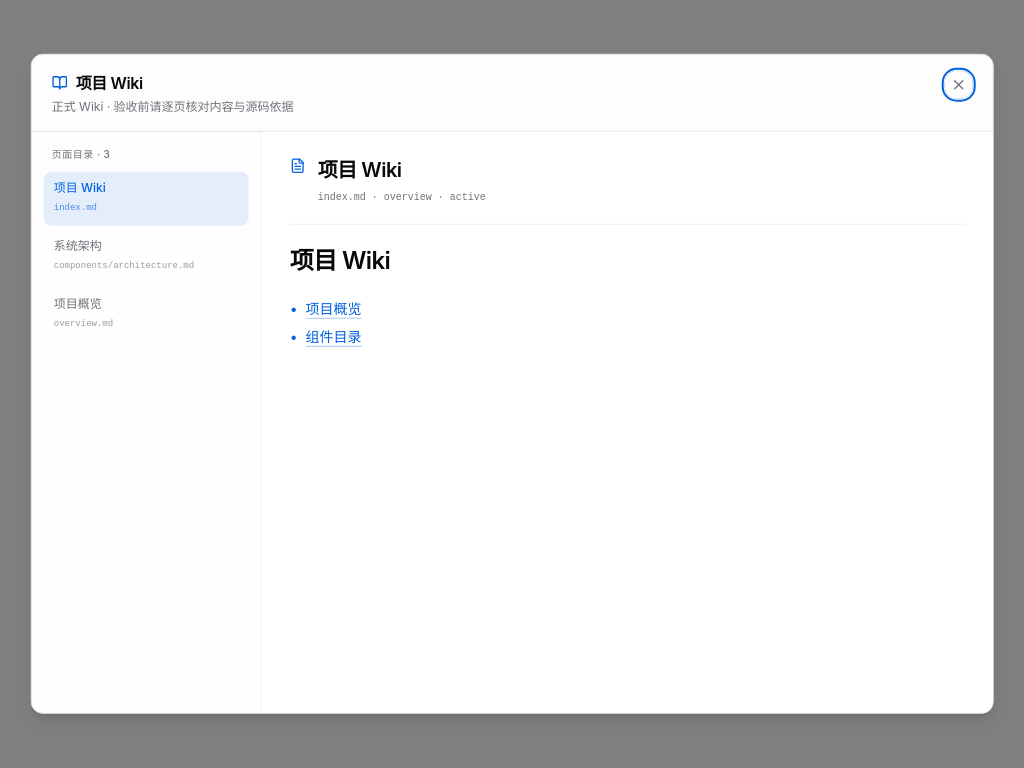
Test: ProjectWikiViewer 页面导航 › 目录链接进入目录中的首个 Wiki 页面
The width and height of the screenshot is (1024, 768).
Click the link "组件目录" at (334, 336), box [306,328,362,345]
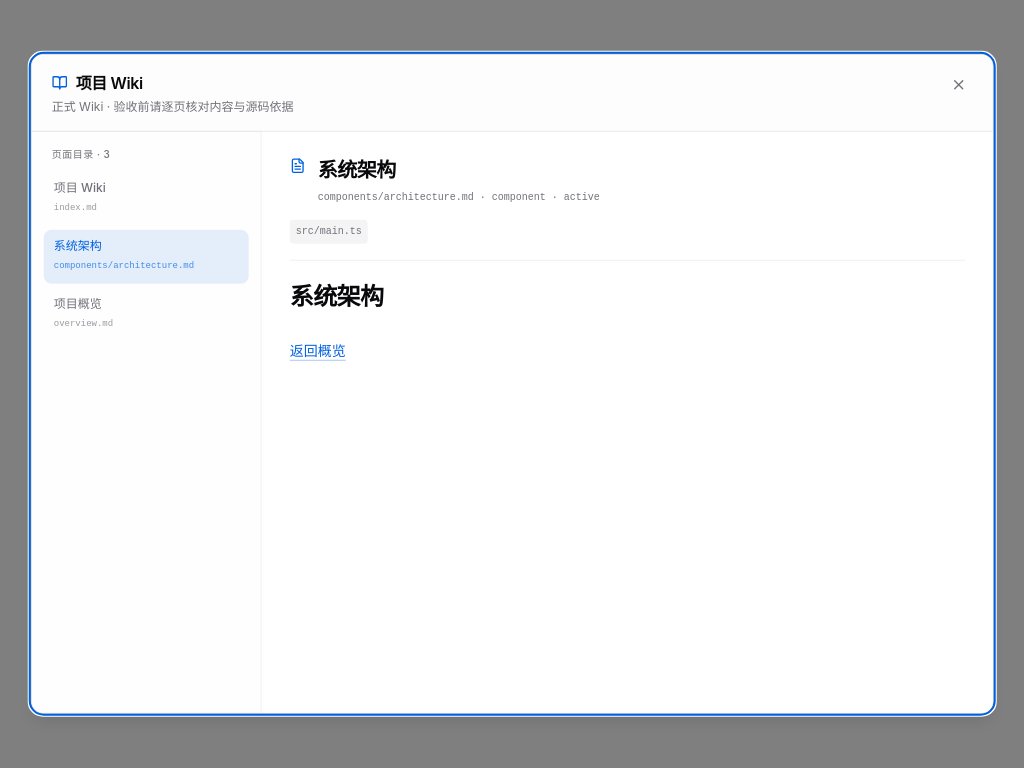
expect the text "components/architecture.md · component · active" is shown: met, box [318,192,600,203]
